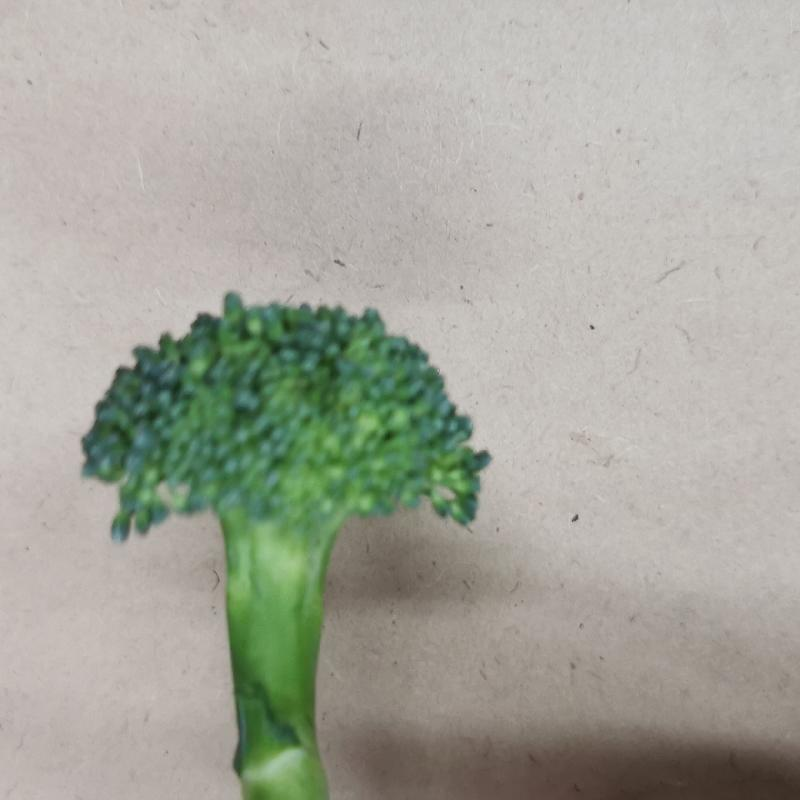broccoli: (79, 272, 489, 800)
